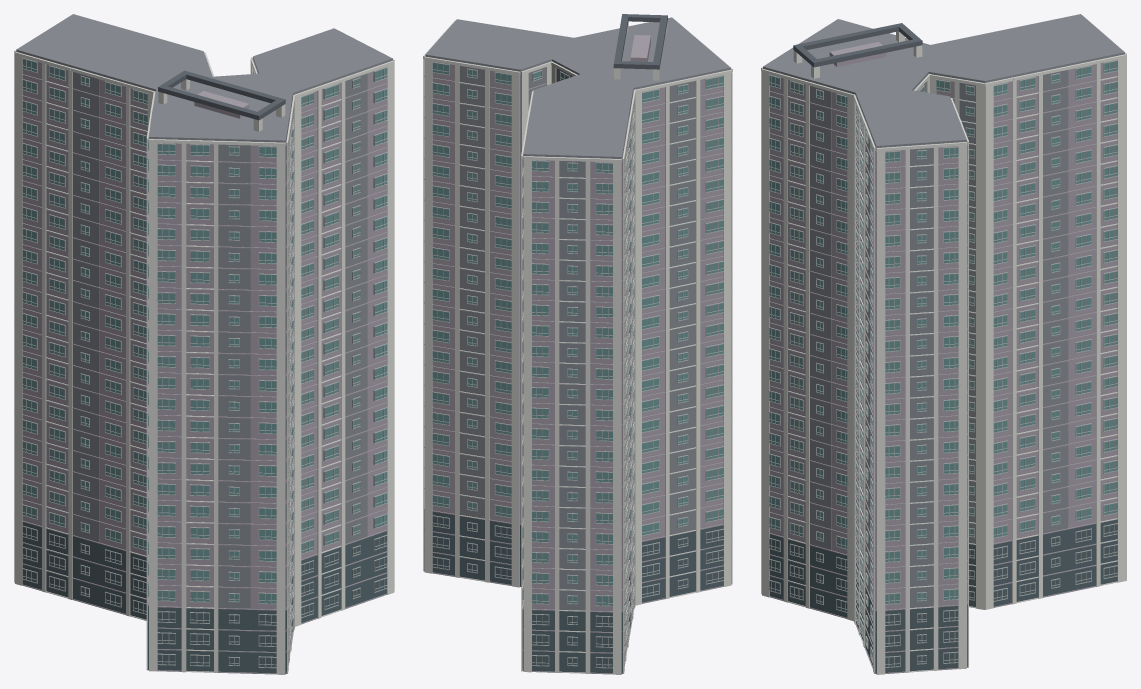
The model's file is bespoke-shinbanpo-xi-105.glb.
3 renders of one model, left to right at view 1: azimuth 30°, elevation 25°; view 2: azimuth 150°, elevation 25°; view 3: azimuth 270°, elevation 25°, orthographic. The views are drawn at different scales.
Visible parts, largest first — view 1: SBX105_editable_SBX105_lavender_grey_metallic_panels, SBX105_editable_SBX105_white_vertical_frame, SBX105_editable_SBX105_grey_inset_service_walls, SBX105_editable_SBX105_pale_teal_glazing, SBX105_editable_SBX105_thin_grey_window_mullions, SBX105_editable_SBX105_dark_glazed_base, SBX105_editable_SBX105_broad_charcoal_roof_caps; view 2: SBX105_editable_SBX105_white_vertical_frame, SBX105_editable_SBX105_grey_inset_service_walls, SBX105_editable_SBX105_lavender_grey_metallic_panels, SBX105_editable_SBX105_pale_teal_glazing, SBX105_editable_SBX105_thin_grey_window_mullions, SBX105_editable_SBX105_dark_glazed_base, SBX105_editable_SBX105_broad_charcoal_roof_caps; view 3: SBX105_editable_SBX105_white_vertical_frame, SBX105_editable_SBX105_lavender_grey_metallic_panels, SBX105_editable_SBX105_grey_inset_service_walls, SBX105_editable_SBX105_thin_grey_window_mullions, SBX105_editable_SBX105_pale_teal_glazing, SBX105_editable_SBX105_dark_glazed_base, SBX105_editable_SBX105_broad_charcoal_roof_caps.
Boxes of the visible parts, box(x1,y1,x2,y2) form: SBX105_editable_SBX105_lavender_grey_metallic_panels: box(14, 51, 392, 674); SBX105_editable_SBX105_white_vertical_frame: box(14, 50, 394, 674); SBX105_editable_SBX105_grey_inset_service_walls: box(16, 14, 392, 608); SBX105_editable_SBX105_pale_teal_glazing: box(22, 59, 386, 603); SBX105_editable_SBX105_thin_grey_window_mullions: box(22, 58, 387, 668); SBX105_editable_SBX105_dark_glazed_base: box(22, 522, 386, 673); SBX105_editable_SBX105_broad_charcoal_roof_caps: box(158, 70, 285, 120); SBX105_editable_SBX105_white_vertical_frame: box(423, 19, 732, 674); SBX105_editable_SBX105_grey_inset_service_walls: box(425, 17, 730, 610); SBX105_editable_SBX105_lavender_grey_metallic_panels: box(423, 35, 732, 674); SBX105_editable_SBX105_pale_teal_glazing: box(432, 63, 723, 605); SBX105_editable_SBX105_thin_grey_window_mullions: box(432, 62, 724, 668); SBX105_editable_SBX105_dark_glazed_base: box(424, 510, 723, 673); SBX105_editable_SBX105_broad_charcoal_roof_caps: box(613, 14, 667, 69); SBX105_editable_SBX105_white_vertical_frame: box(761, 16, 1126, 674); SBX105_editable_SBX105_lavender_grey_metallic_panels: box(761, 42, 1124, 674); SBX105_editable_SBX105_grey_inset_service_walls: box(763, 14, 1124, 607); SBX105_editable_SBX105_thin_grey_window_mullions: box(769, 60, 1119, 667); SBX105_editable_SBX105_pale_teal_glazing: box(769, 61, 1117, 603); SBX105_editable_SBX105_dark_glazed_base: box(769, 519, 1117, 673); SBX105_editable_SBX105_broad_charcoal_roof_caps: box(793, 23, 922, 67).
Bounding box in the file's own units: 38.86 × 73.6 × 44.88.
